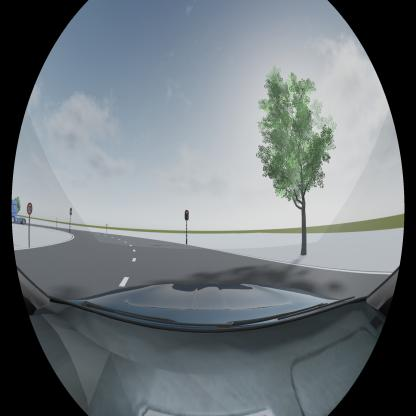Red Light: (184, 210, 188, 221)
Speed Limit 70: (27, 203, 32, 214)
